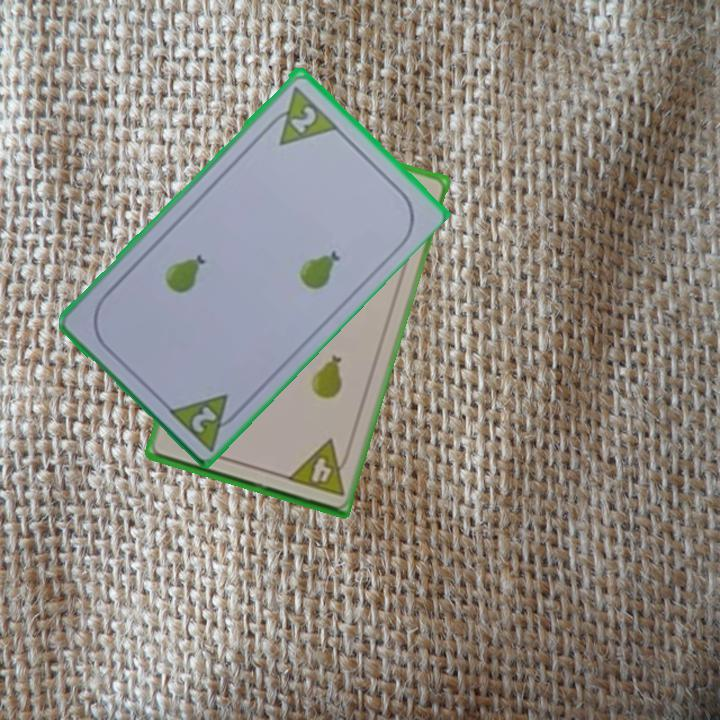2p: (163, 389, 247, 452), (287, 101, 320, 136)
4p: (283, 436, 354, 499)
